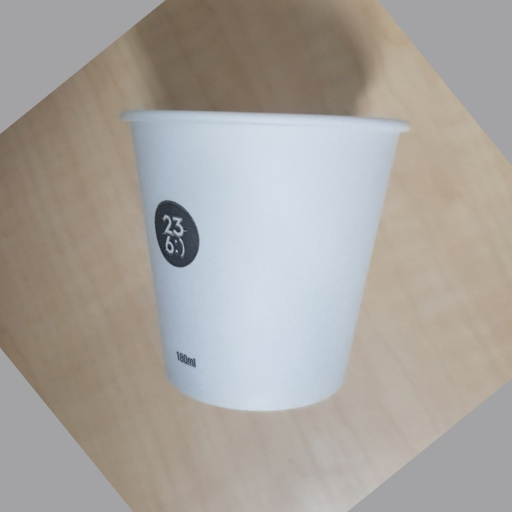Paper_1: (125, 106, 412, 410)
